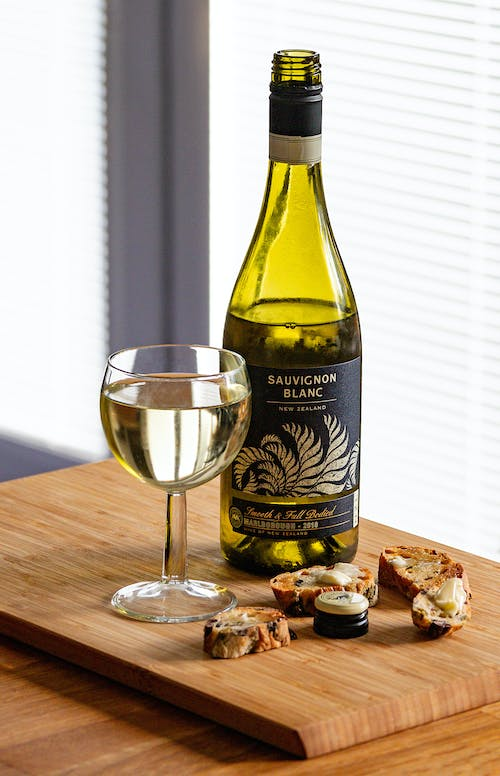alcohol: (217, 46, 362, 578), (97, 341, 253, 625)
